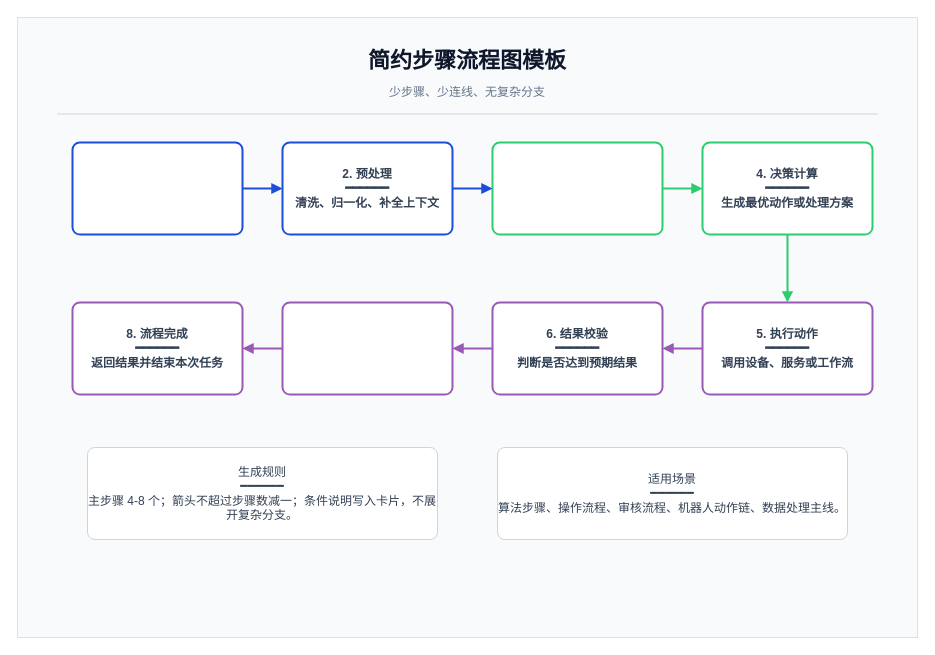
The diagram is 935 pixels wide and 655 high, and some of its shapes have lost their labels. Each missing label, with the centre of its shape:
"1. 输入采集 ━━━━━━ 接收用户输入或外部信号" belongs at point 157,188.
"3. 核心识别 ━━━━━━ 抽取目标、意图或关键参数" belongs at point 577,188.
"7. 记录反馈 ━━━━━━ 写入日志、指标和业务记录" belongs at point 367,348.
